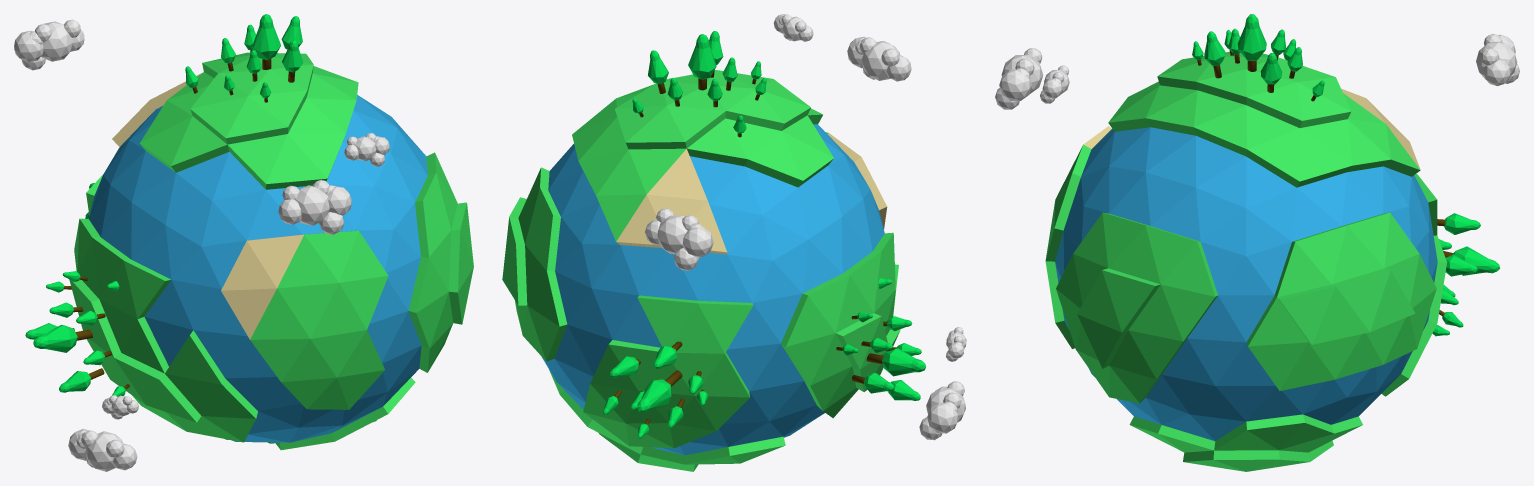
File: Planet.glb
3 renders of one model, left to right at view 1: azimuth 30°, elevation 25°; view 2: azimuth 150°, elevation 25°; view 3: azimuth 270°, elevation 25°, orthographic. The views are drawn at different scales.
Parts seen in each view (by area): view 1: Planet, Cloud 1, Cloud 2, Cloud 3, Cloud 5, Cloud 4; view 2: Planet, Cloud 2, Cloud 1, Cloud 3, Cloud 5, Cloud 4; view 3: Planet, Cloud 1, Cloud 2, Cloud 5.
Boxes of the visible parts, bbox=[...] form: Planet: bbox=[25, 14, 473, 450]; Cloud 1: bbox=[278, 180, 351, 234]; Cloud 2: bbox=[14, 19, 84, 70]; Cloud 3: bbox=[68, 428, 137, 471]; Cloud 5: bbox=[344, 133, 389, 166]; Cloud 4: bbox=[102, 395, 138, 419]; Planet: bbox=[502, 31, 925, 471]; Cloud 2: bbox=[645, 208, 713, 270]; Cloud 1: bbox=[847, 36, 911, 81]; Cloud 3: bbox=[919, 381, 965, 440]; Cloud 5: bbox=[773, 14, 813, 41]; Cloud 4: bbox=[946, 327, 966, 361]; Planet: bbox=[1045, 14, 1500, 471]; Cloud 1: bbox=[995, 48, 1043, 109]; Cloud 2: bbox=[1476, 33, 1519, 86]; Cloud 5: bbox=[1040, 65, 1069, 103].
Bounding box in the file's own units: 7.4 × 7.58 × 8.23.
